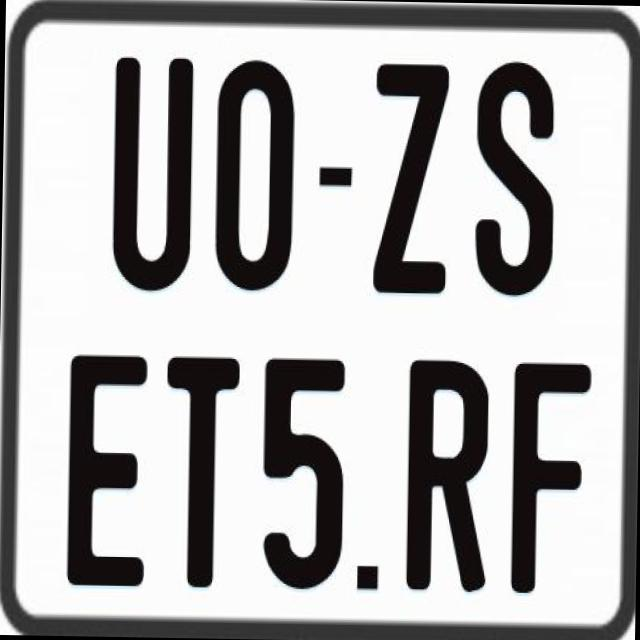0: (212, 55, 296, 292)
5: (256, 354, 346, 587)
E: (62, 353, 148, 589)
F: (510, 362, 596, 602)
R: (406, 359, 496, 595)
S: (474, 62, 560, 305)
T: (163, 352, 240, 582)
U: (111, 57, 198, 300)
Z: (368, 61, 452, 302)
